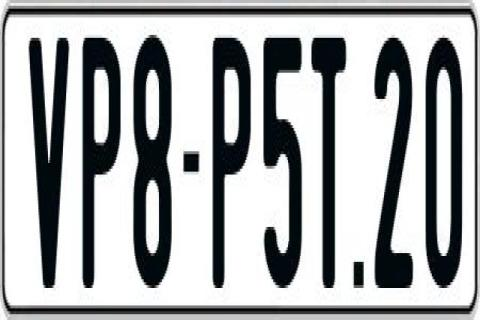0: (372, 38, 417, 288), (422, 29, 462, 294), (263, 38, 303, 294), (133, 32, 171, 288)
P: (82, 38, 126, 294), (214, 38, 252, 302)
T: (310, 32, 348, 288)
V: (28, 32, 75, 296)
